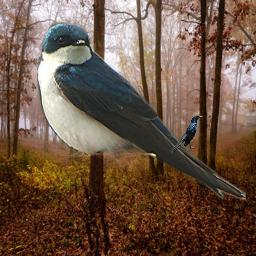Crow: (171, 115, 203, 153)
Swallow: (37, 22, 246, 200)
